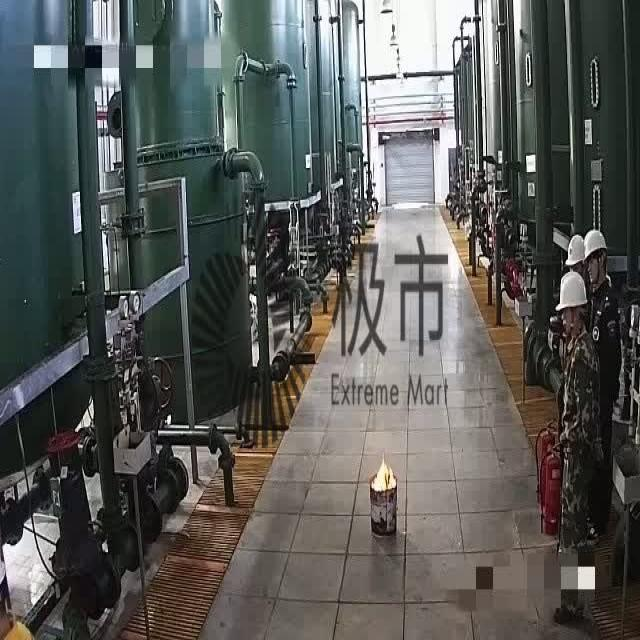fire: (372, 422, 457, 538)
